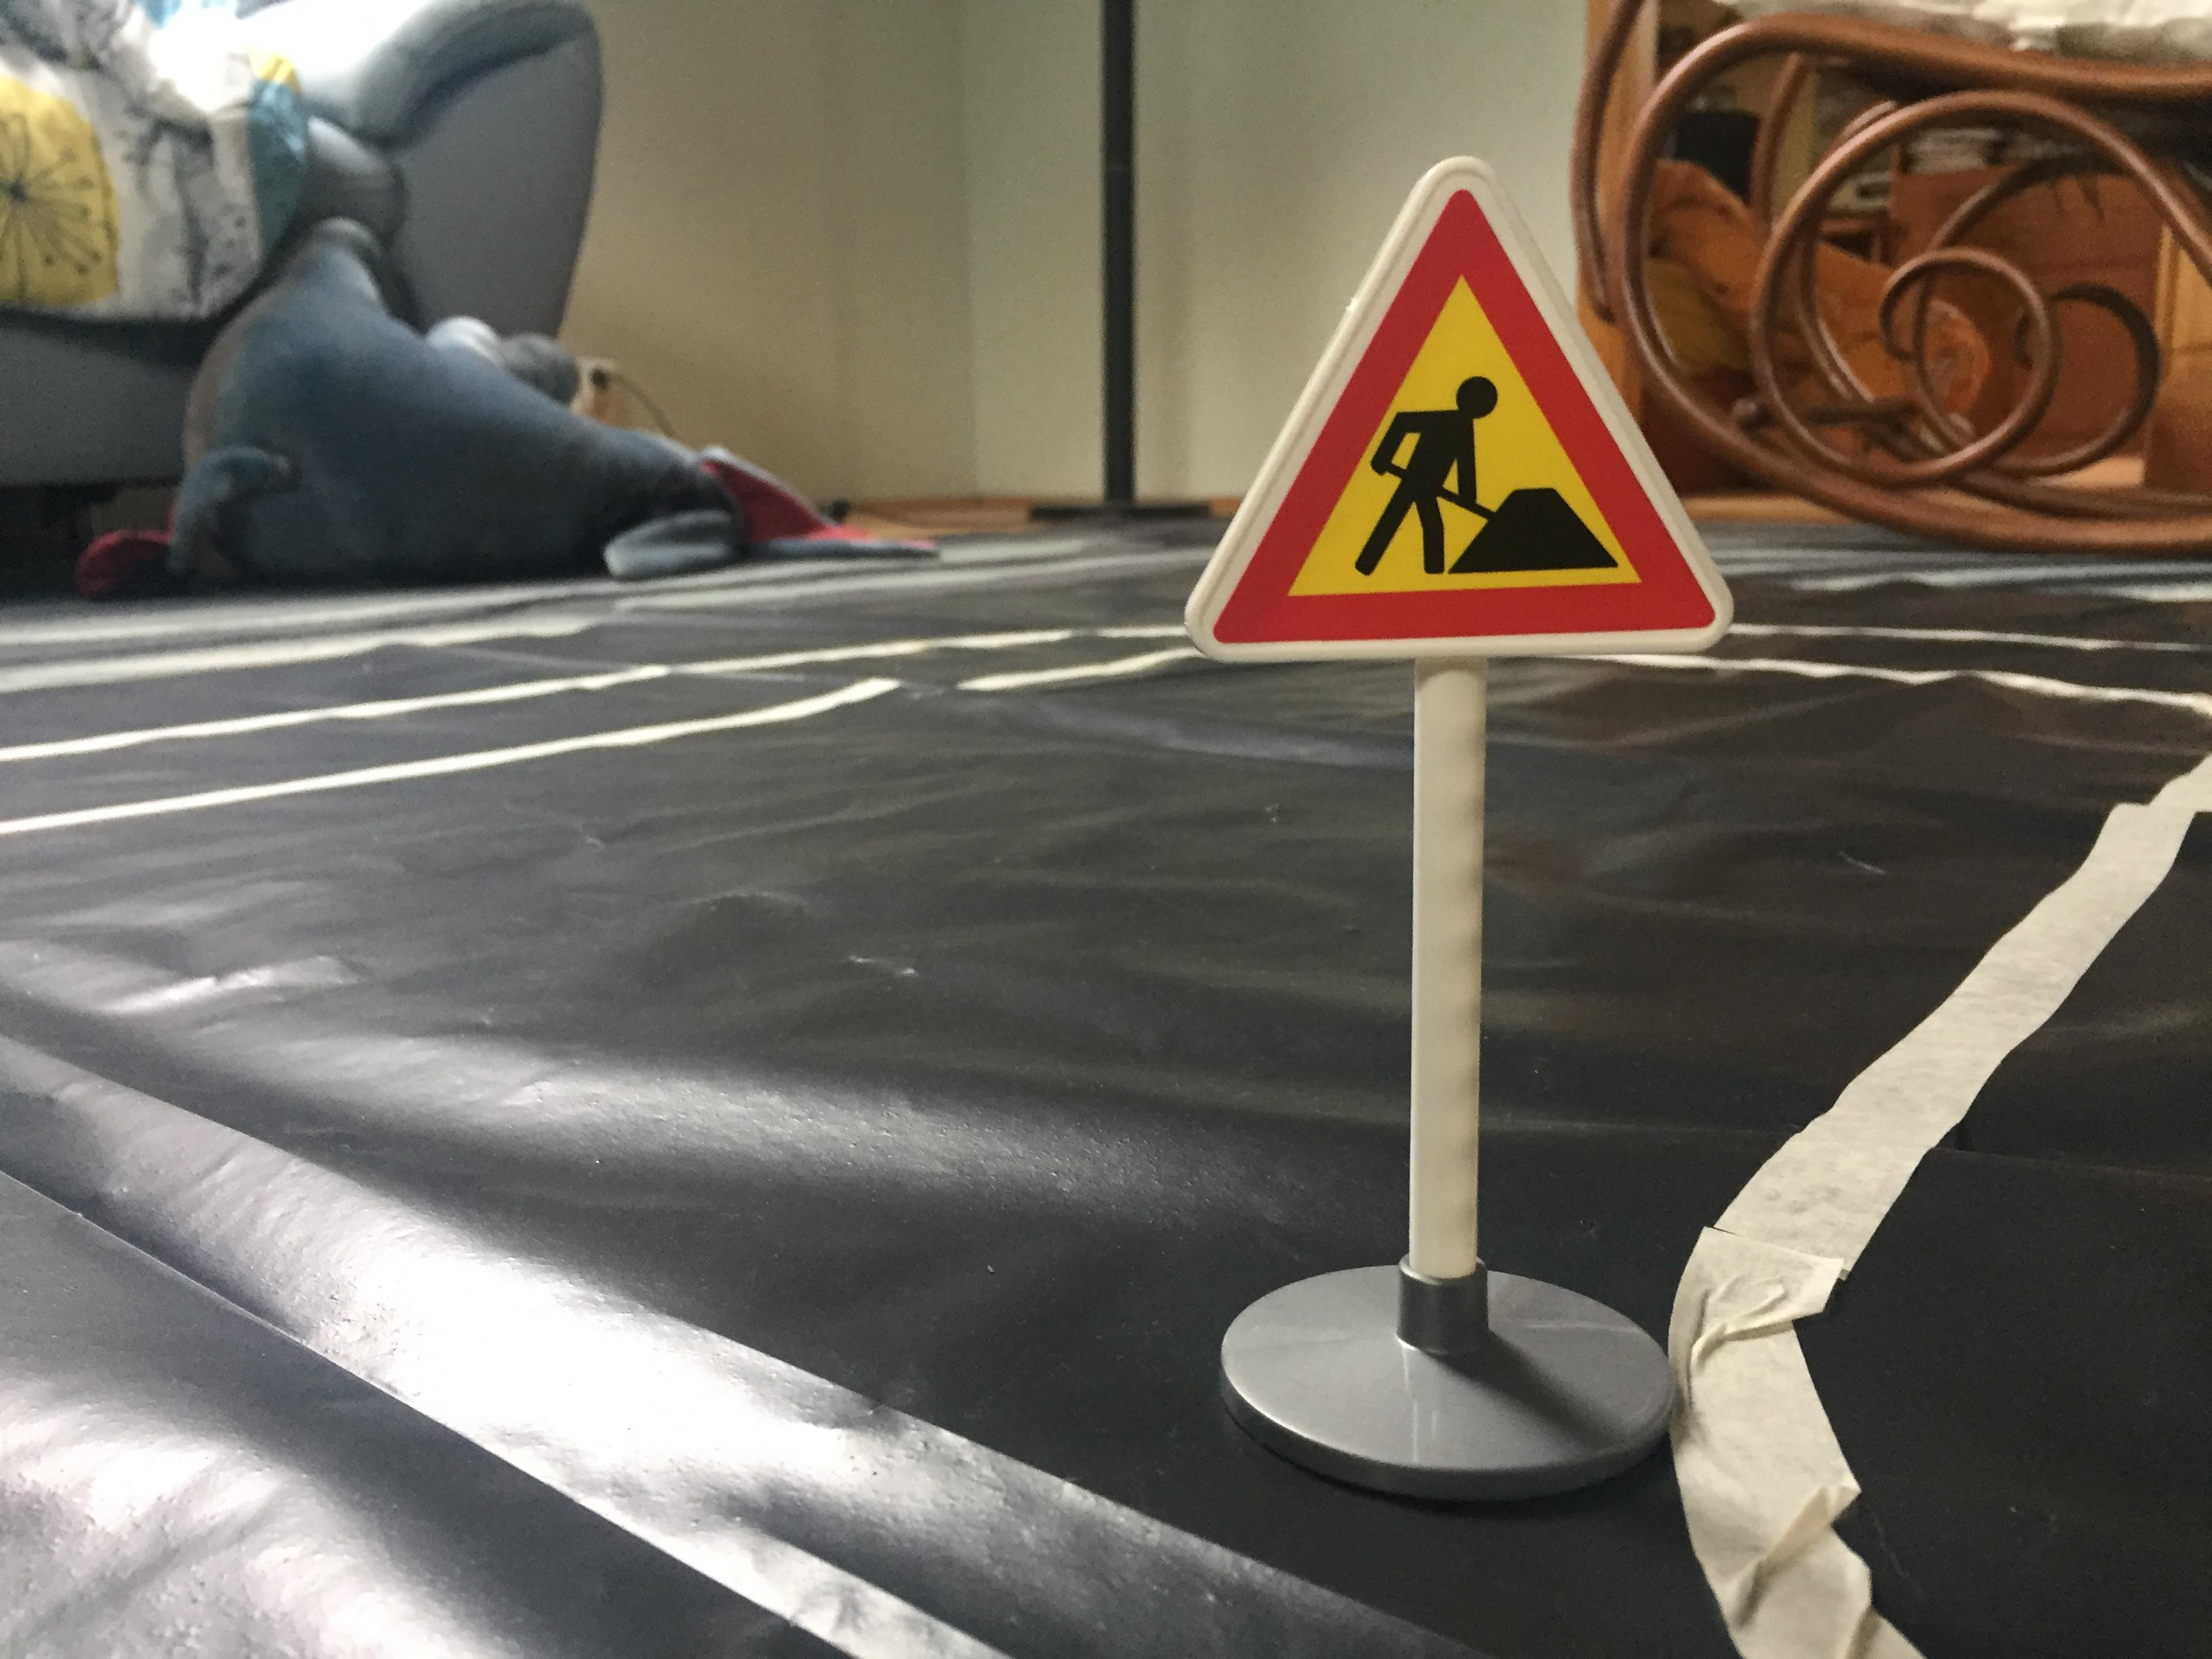work: (1176, 152, 1747, 680)
